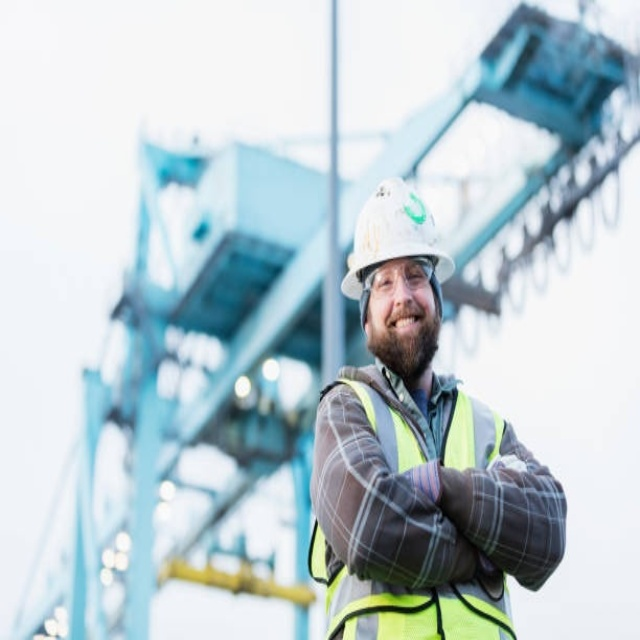Gafas: (365, 258, 436, 294)
Sin_mascara: (387, 304, 424, 347)
